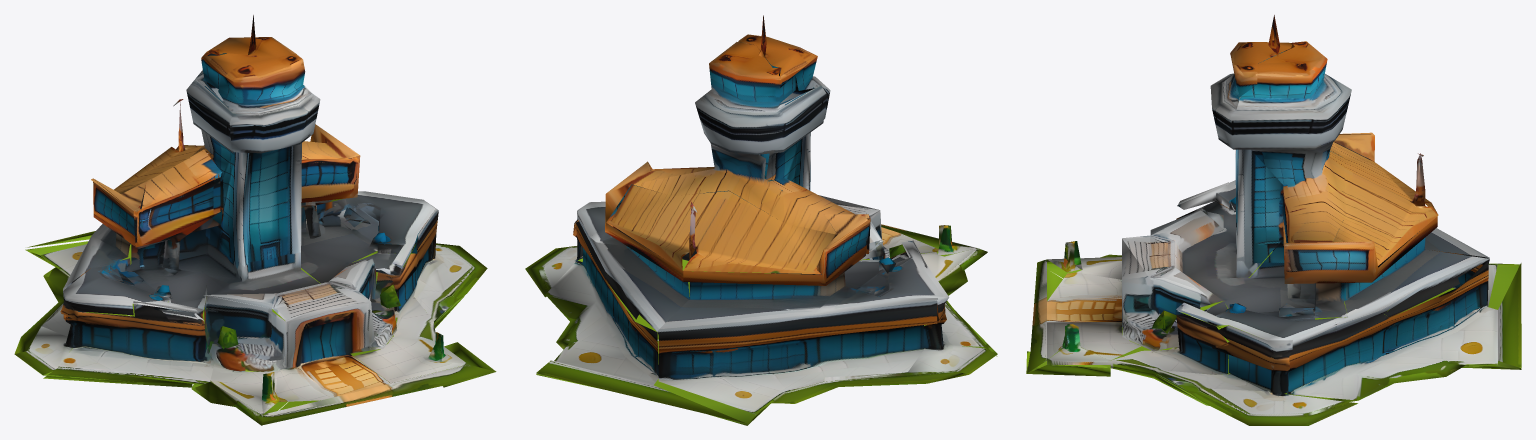
The model's file is 机场塔台.fbx.
3 renders of one model, left to right at view 1: azimuth 30°, elevation 25°; view 2: azimuth 150°, elevation 25°; view 3: azimuth 270°, elevation 25°, orthographic.
Parts seen in each view (by area): view 1: texture_pbr_v130.001; view 2: texture_pbr_v130.001; view 3: texture_pbr_v130.001.
Boxes of the visible parts, left/top/right/bottom form: texture_pbr_v130.001: left=14, top=15, right=496, bottom=425; texture_pbr_v130.001: left=525, top=15, right=997, bottom=425; texture_pbr_v130.001: left=1026, top=15, right=1521, bottom=425.
Bounding box in the file's own units: 190 × 140 × 181.
1 material, 1 textured.
